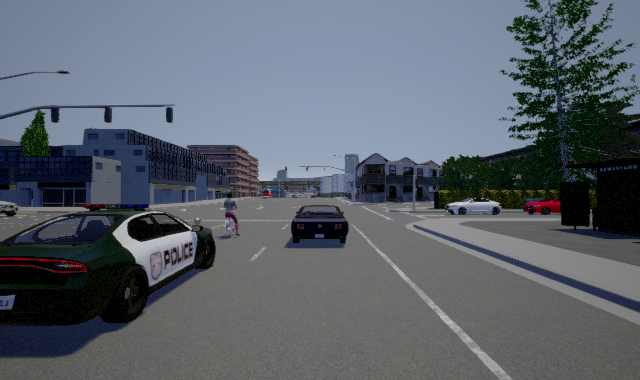bike: (218, 192, 245, 242)
traffic_light: (306, 166, 308, 171), (285, 166, 287, 171)
vehicle: (1, 204, 216, 326), (291, 205, 349, 243), (445, 198, 502, 215), (523, 198, 561, 215)
